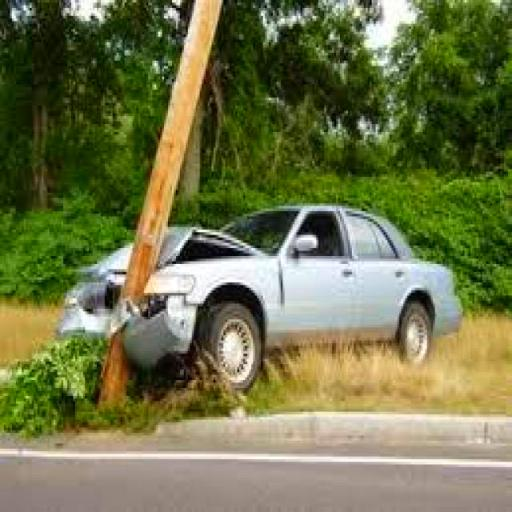小汽车撞物: (40, 212, 457, 398)
